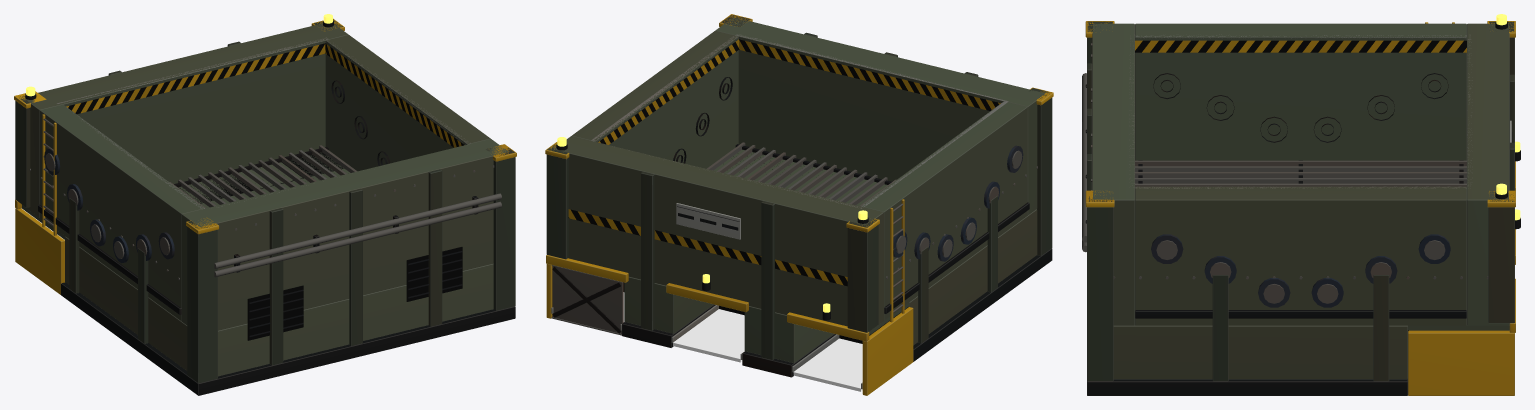
File: recycler_body.glb
3 views of the same model, side by side, from view 1: azimuth 30°, elevation 25°; view 2: azimuth 150°, elevation 25°; view 3: azimuth 270°, elevation 25° (orthographic). The views are drawn at different scales.
Parts seen in each view (by area): view 1: Body; view 2: Body, Belt2, Belt1; view 3: Body.
Part boxes in pixels (<box>): Body: <box>14,14,516,395</box>; Body: <box>545,14,1053,395</box>; Belt2: <box>673,309,744,362</box>; Belt1: <box>793,338,862,391</box>; Body: <box>1082,14,1520,395</box>.
Size of the model in its own units: 8.04 by 4.22 by 8.2.
